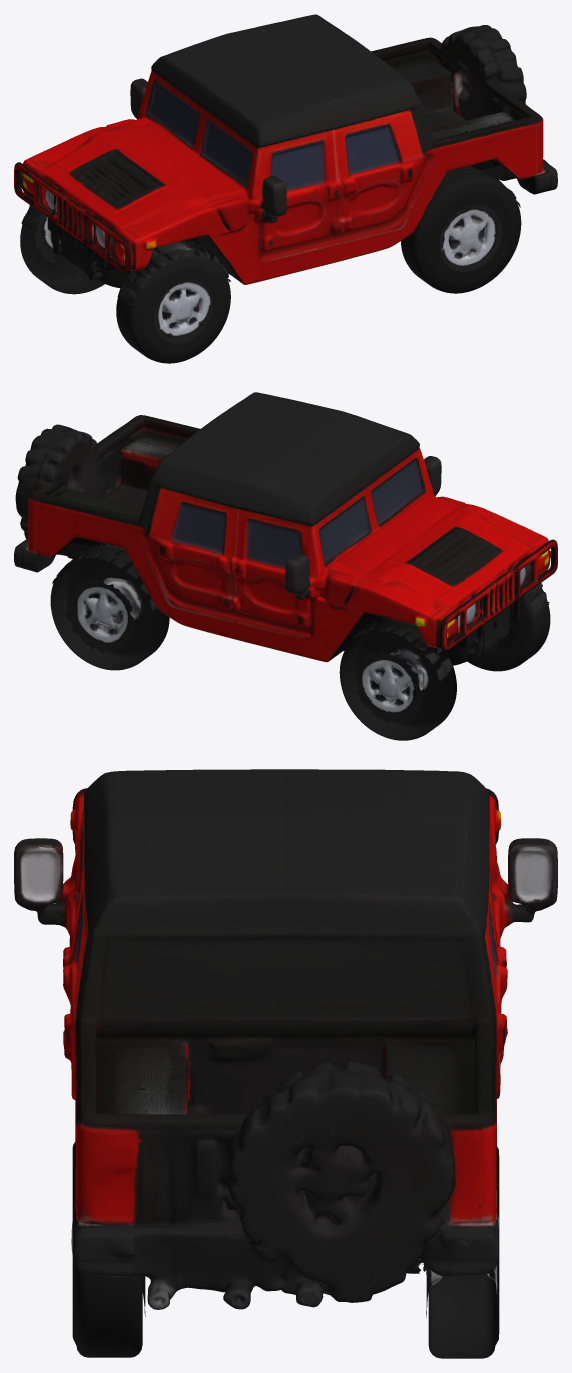
File: Arnold_Hummer.glb
3 views of the same model, one above another, from view 1: azimuth 30°, elevation 25°; view 2: azimuth 150°, elevation 25°; view 3: azimuth 270°, elevation 25° (orthographic). The views are drawn at different scales.
Parts seen in each view (by area): view 1: world, Wheel_PR, Wheel_NR, Wheel_NL; view 2: world, Wheel_PL, Wheel_NL, Wheel_NR; view 3: world, Wheel_PL, Wheel_PR.
Boxes of the visible parts, <box> form: world: <box>14,14,557,305</box>; Wheel_PR: <box>401,168,521,293</box>; Wheel_NR: <box>116,255,230,363</box>; Wheel_NL: <box>20,207,104,294</box>; world: <box>14,392,557,681</box>; Wheel_PL: <box>50,547,169,670</box>; Wheel_NL: <box>339,626,456,740</box>; Wheel_NR: <box>467,588,550,671</box>; world: <box>14,769,557,1309</box>; Wheel_PL: <box>423,1145,499,1358</box>; Wheel_PR: <box>71,1141,145,1357</box>.
Bounding box in the file's own units: 1 × 0.4722 × 0.5709.
Materials: 1 (1 with a texture image).
